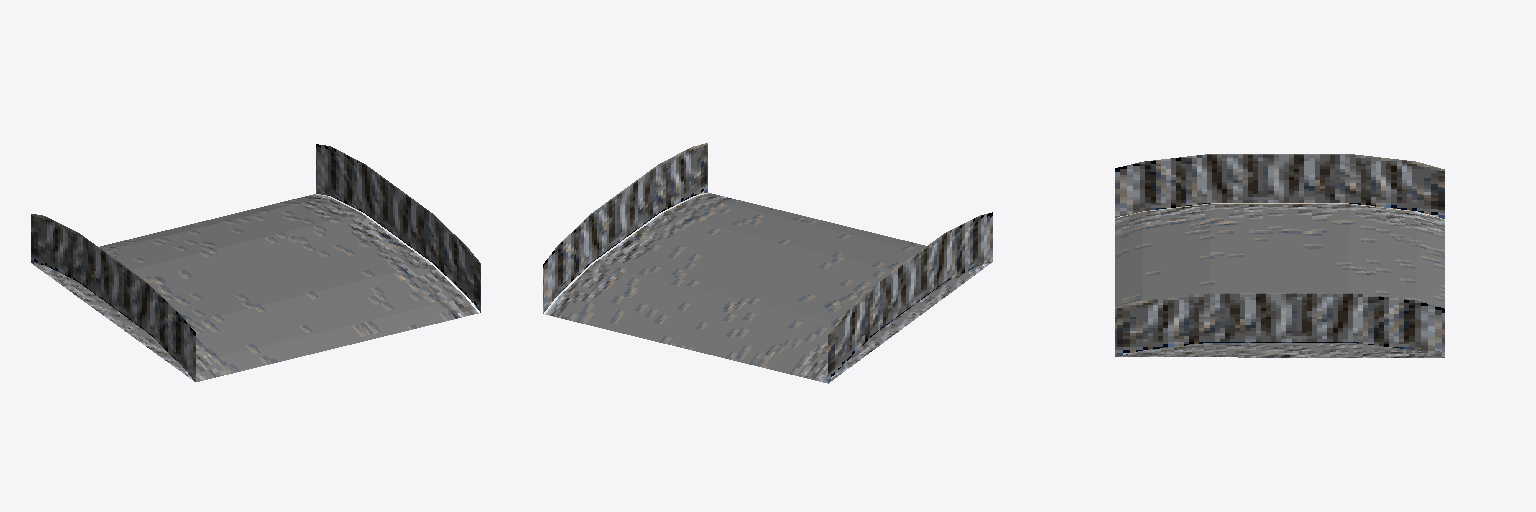
3 renders of one model, left to right at view 1: azimuth 30°, elevation 25°; view 2: azimuth 150°, elevation 25°; view 3: azimuth 270°, elevation 25°, orthographic.
Parts seen in each view (by area): view 1: pCube20 Aisle, Aisle polySurface1; view 2: pCube20 Aisle, Aisle polySurface1; view 3: pCube20 Aisle, Aisle polySurface1.
Part boxes in pixels (bbox=[...]): pCube20 Aisle: bbox=[31, 144, 480, 381]; Aisle polySurface1: bbox=[32, 263, 194, 381]; pCube20 Aisle: bbox=[543, 143, 992, 383]; Aisle polySurface1: bbox=[828, 262, 991, 383]; pCube20 Aisle: bbox=[1115, 154, 1444, 357]; Aisle polySurface1: bbox=[1118, 343, 1441, 357].
Bounding box in the file's own units: 6 × 1.32 × 6.
Materials: 2 (1 with a texture image).